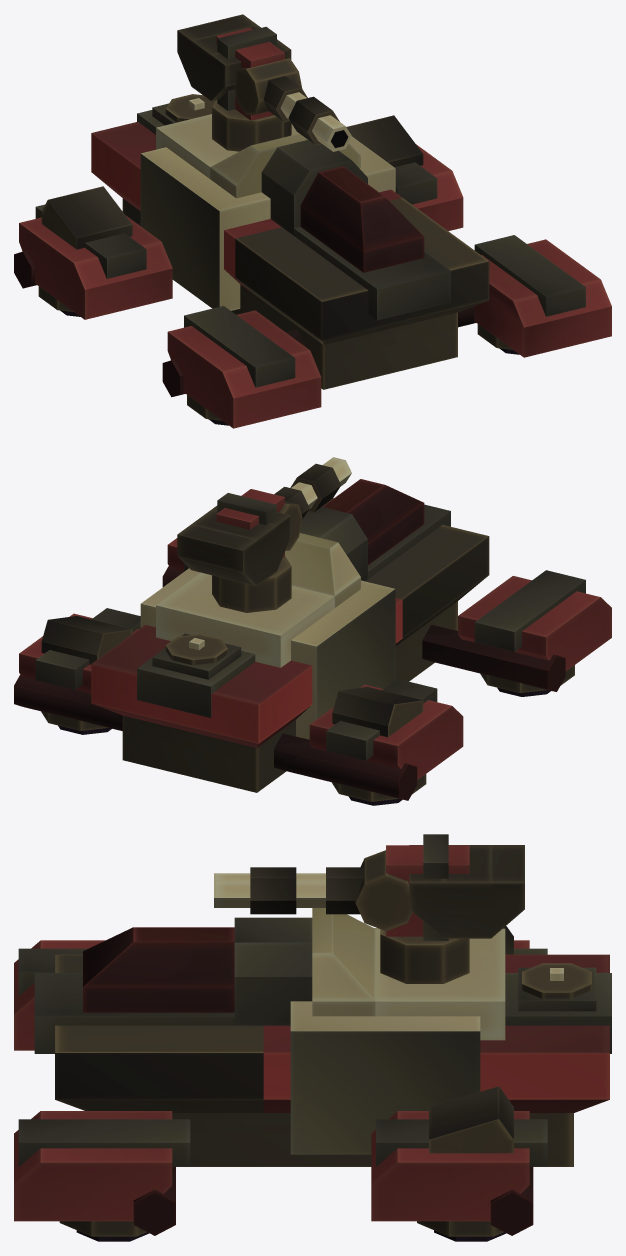
The model's file is unit_Grav_Light_Harnok_B.FBX.
3 renders of one model, top to bottom at view 1: azimuth 30°, elevation 25°; view 2: azimuth 150°, elevation 25°; view 3: azimuth 270°, elevation 25°, orthographic. The views are drawn at different scales.
Visible parts, largest first — view 1: unit_Grav_Light_Harnok_B_Body, unit_Grav_Light_Harnok_B_RR, unit_Grav_Light_Harnok_B_FR, unit_Grav_Light_Harnok_B_FL, unit_Grav_Light_Harnok_B_Gun_Turret, unit_Grav_Light_Harnok_B_RL, unit_Grav_Light_Harnok_B_Gun; view 2: unit_Grav_Light_Harnok_B_Body, unit_Grav_Light_Harnok_B_RR, unit_Grav_Light_Harnok_B_FR, unit_Grav_Light_Harnok_B_Gun_Turret, unit_Grav_Light_Harnok_B_RL, unit_Grav_Light_Harnok_B_Gun, unit_Grav_Light_Harnok_B_FL; view 3: unit_Grav_Light_Harnok_B_Body, unit_Grav_Light_Harnok_B_RL, unit_Grav_Light_Harnok_B_FL, unit_Grav_Light_Harnok_B_Gun_Turret, unit_Grav_Light_Harnok_B_Gun, unit_Grav_Light_Harnok_B_FR, unit_Grav_Light_Harnok_B_RR.
Boxes of the visible parts, x1,y1,x2,y2 form: unit_Grav_Light_Harnok_B_Body: (91,94,489,389); unit_Grav_Light_Harnok_B_RR: (14,186,172,319); unit_Grav_Light_Harnok_B_FR: (162,306,321,428); unit_Grav_Light_Harnok_B_FL: (458,235,611,357); unit_Grav_Light_Harnok_B_Gun_Turret: (177,14,291,151); unit_Grav_Light_Harnok_B_RL: (346,115,463,230); unit_Grav_Light_Harnok_B_Gun: (234,58,351,151); unit_Grav_Light_Harnok_B_Body: (91,479,489,792); unit_Grav_Light_Harnok_B_RR: (274,679,463,805); unit_Grav_Light_Harnok_B_FR: (422,570,611,696); unit_Grav_Light_Harnok_B_Gun_Turret: (177,489,291,612); unit_Grav_Light_Harnok_B_RL: (14,608,140,734); unit_Grav_Light_Harnok_B_Gun: (274,457,351,550); unit_Grav_Light_Harnok_B_FL: (162,538,188,586); unit_Grav_Light_Harnok_B_Body: (34,908,611,1166); unit_Grav_Light_Harnok_B_RL: (371,1086,547,1241); unit_Grav_Light_Harnok_B_FL: (14,1111,190,1241); unit_Grav_Light_Harnok_B_Gun_Turret: (380,834,524,983); unit_Grav_Light_Harnok_B_Gun: (214,850,412,930); unit_Grav_Light_Harnok_B_FR: (14,940,105,1050); unit_Grav_Light_Harnok_B_RR: (503,926,547,954).
Bounding box in the file's own units: 343 × 207 × 383.
